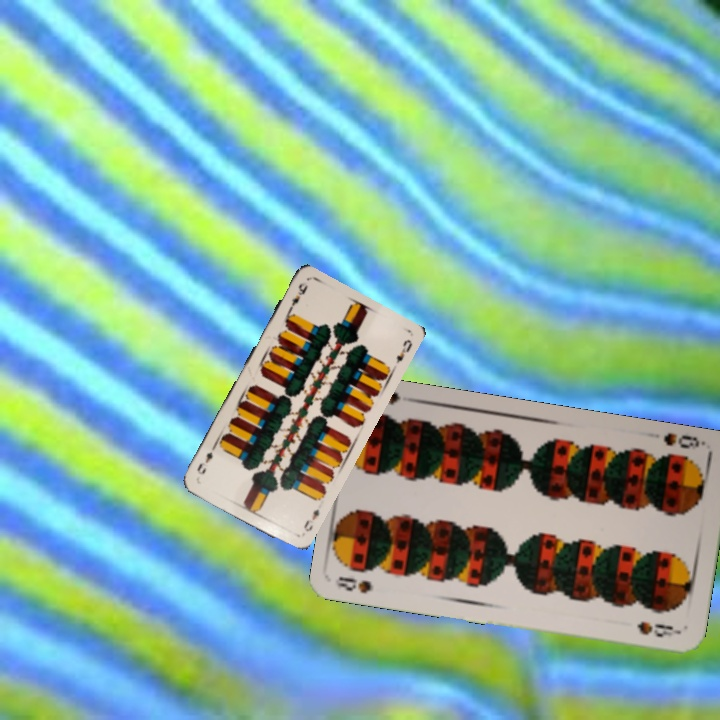E9: (284, 278, 310, 315), (299, 505, 322, 534)
S8: (659, 429, 708, 452), (333, 572, 375, 596)
